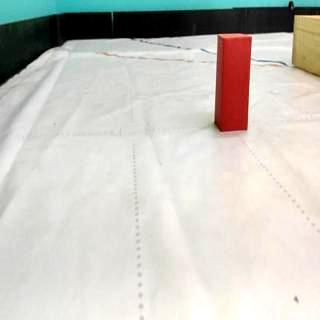redbox: (215, 32, 252, 132)
